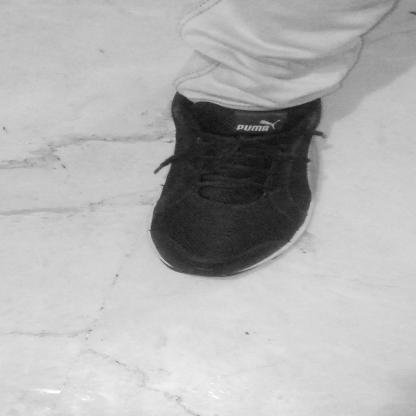ankle: (258, 114, 270, 119)
heel: (315, 103, 324, 109)
left_foot: (149, 95, 327, 278)
pinky: (273, 235, 287, 242)
toe: (157, 227, 173, 234)
